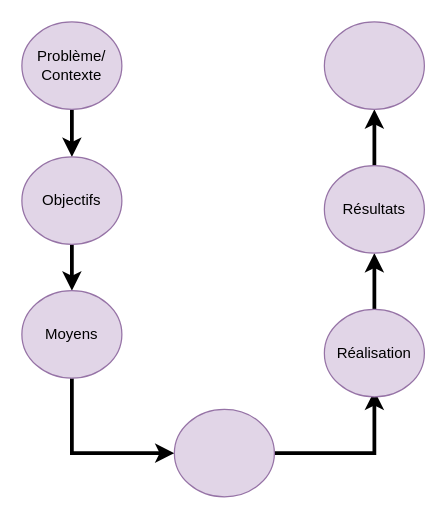
The diagram is 446 pixels wide and 519 high, and some of its shapes have lost their labels. Each missing label, with the centre of its shape:
Activités: pixel 223 452
Effets: pixel 373 65
